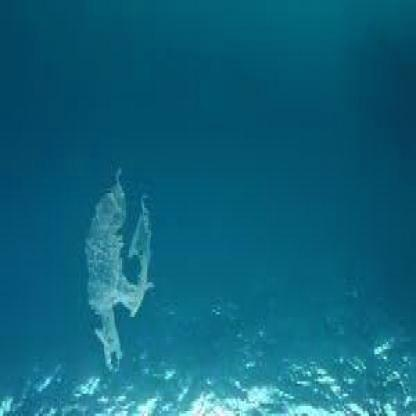pbag: (83, 166, 153, 374)
